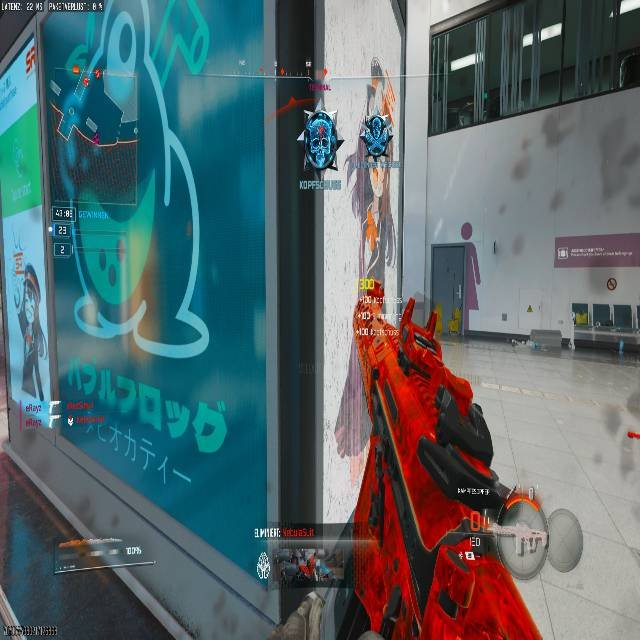player: (292, 96, 343, 181), (360, 109, 391, 160)
